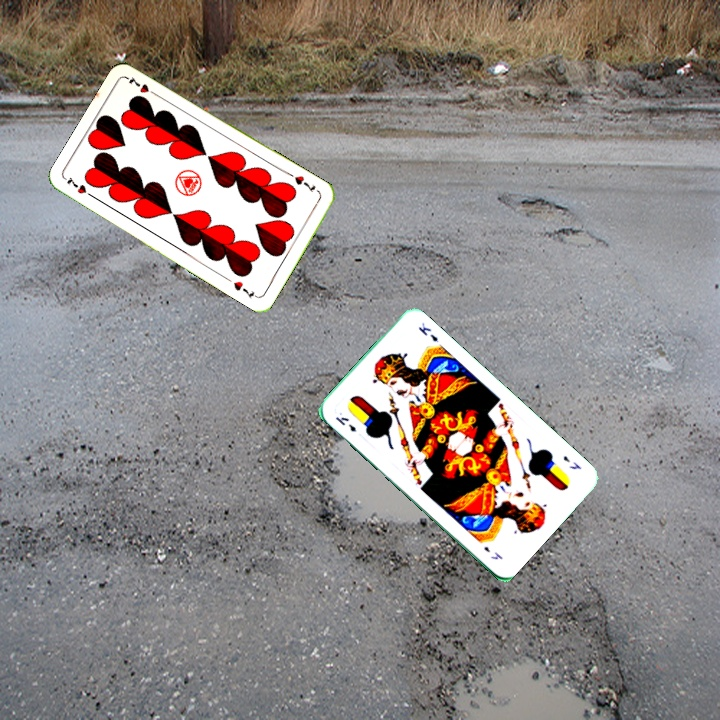EK: (332, 413, 359, 435), (559, 451, 584, 472)
H7: (62, 173, 98, 201), (285, 169, 318, 195)
